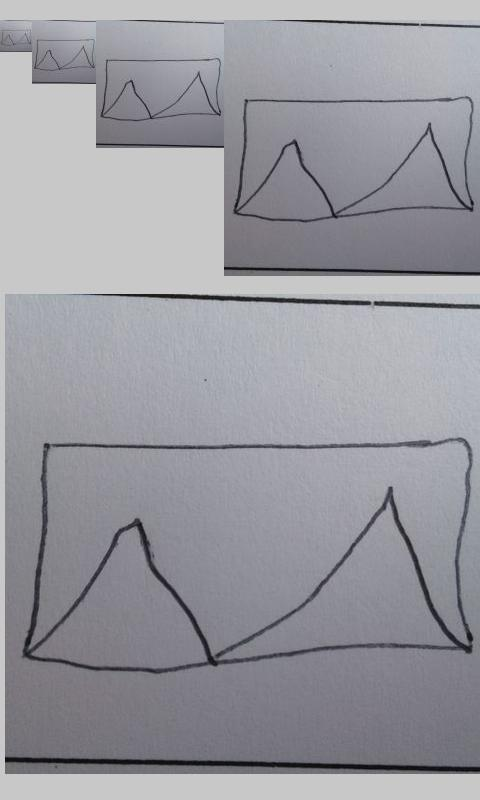image_view: (26, 433, 474, 676), (234, 94, 476, 223), (100, 57, 224, 123), (34, 39, 95, 71), (1, 29, 32, 46)
